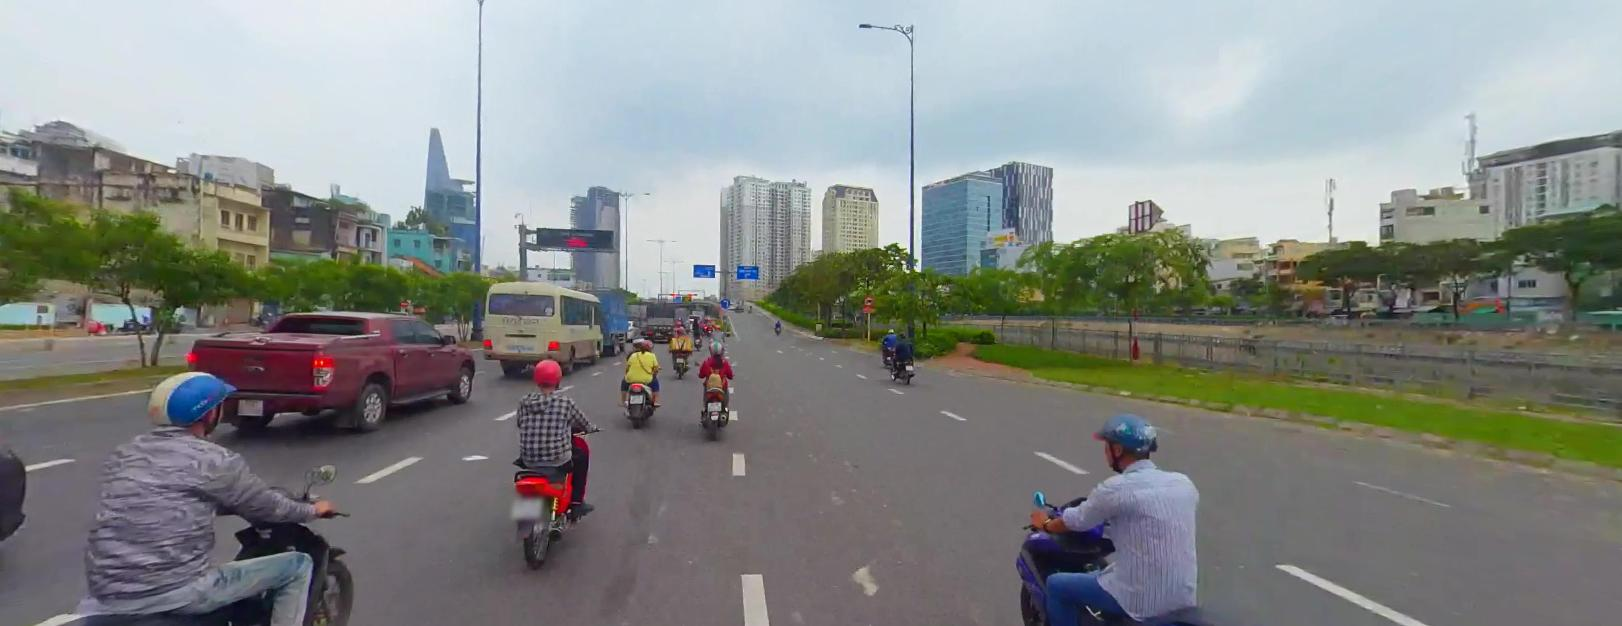Cam con lai: (863, 294, 873, 304), (863, 294, 873, 303)
Hieu lenh: (719, 296, 729, 306), (720, 297, 729, 306)
